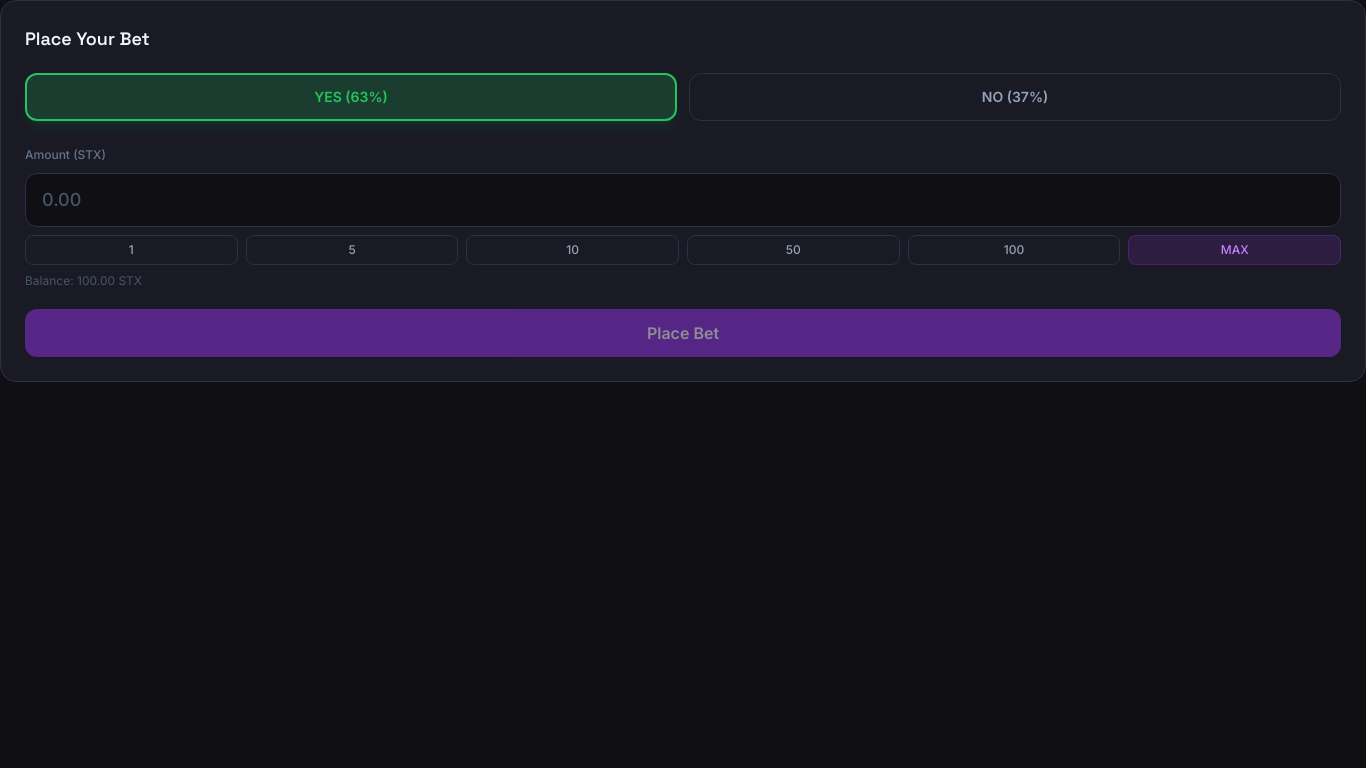
Test: BettingPanel › shows minimum bet validation
Type "0.5" into the number field with placeholder "0.00".
click(683, 200); type("0.5")  # box [25,173,1341,227]
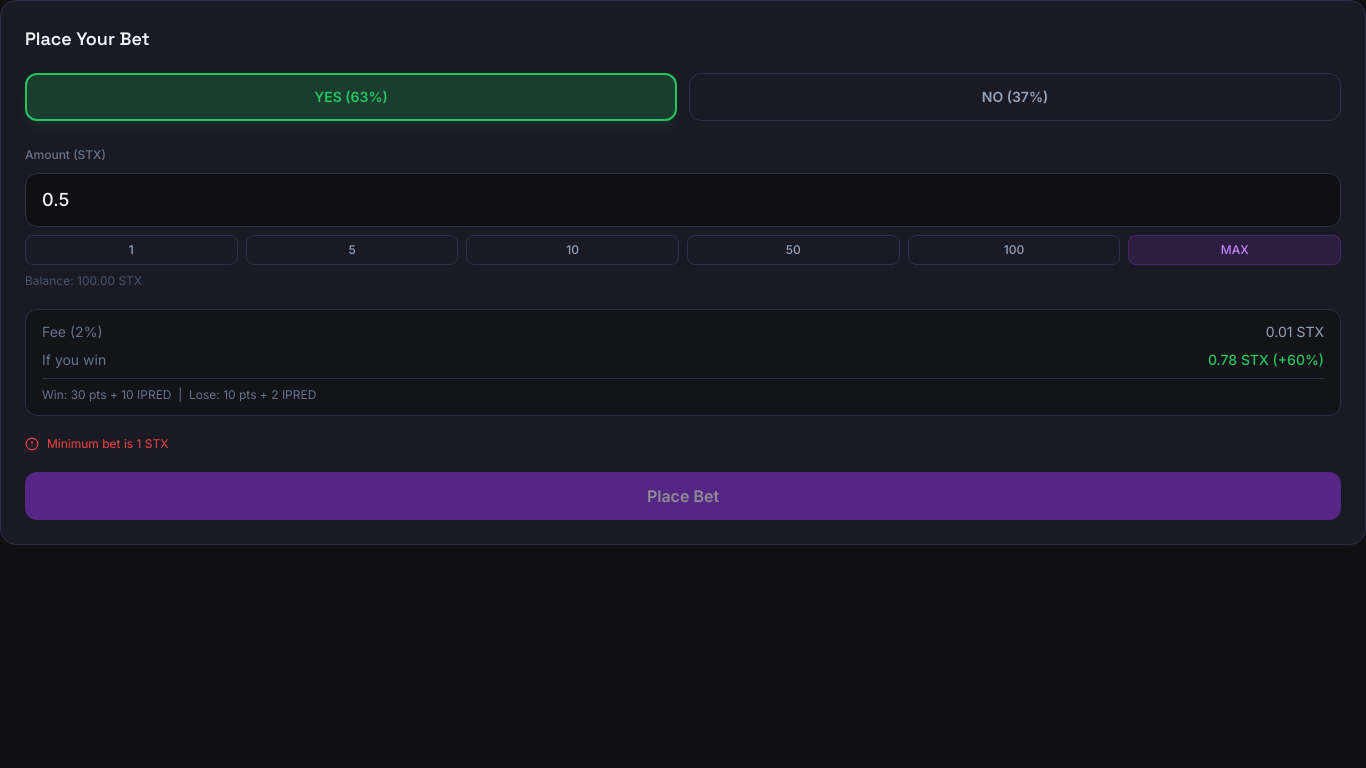
Check: the text "Minimum bet is 1 STX" is shown, box [25,436,168,451]
